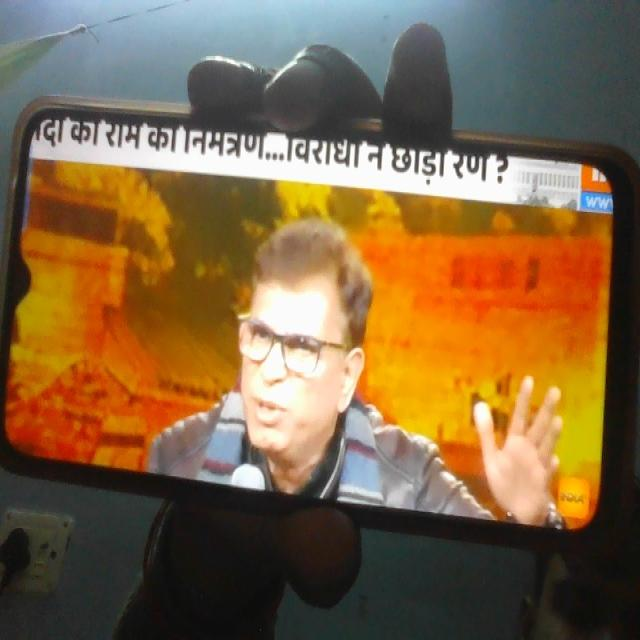fake: (218, 208, 364, 484)
